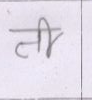i_matra: (39, 17, 56, 56)
